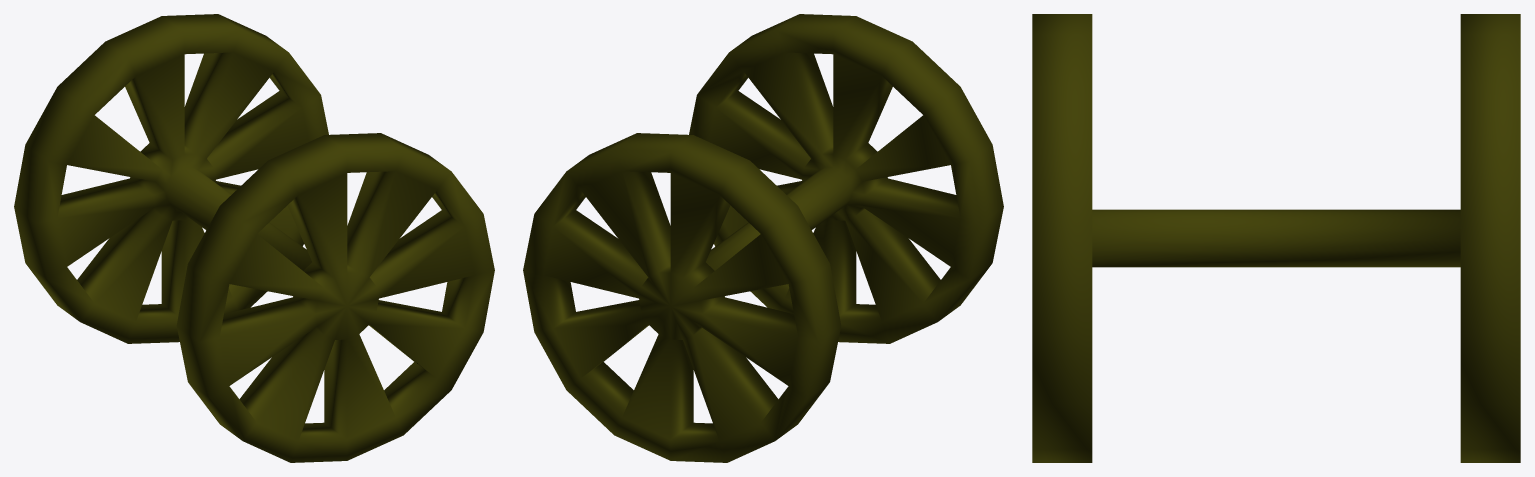
Rendered from wheels.obj.
3 views of the same model, side by side, from view 1: azimuth 30°, elevation 25°; view 2: azimuth 150°, elevation 25°; view 3: azimuth 270°, elevation 25° (orthographic). The views are drawn at different scales.
Parts seen in each view (by area): view 1: Cylinder_Cylinder.001; view 2: Cylinder_Cylinder.001; view 3: Cylinder_Cylinder.001.
Part boxes in pixels (x1,y1,x2,y2): Cylinder_Cylinder.001: (14,14,494,462); Cylinder_Cylinder.001: (523,14,1003,462); Cylinder_Cylinder.001: (1032,14,1520,462).
Size of the model in its own units: 2.42 by 2.42 by 2.63.
